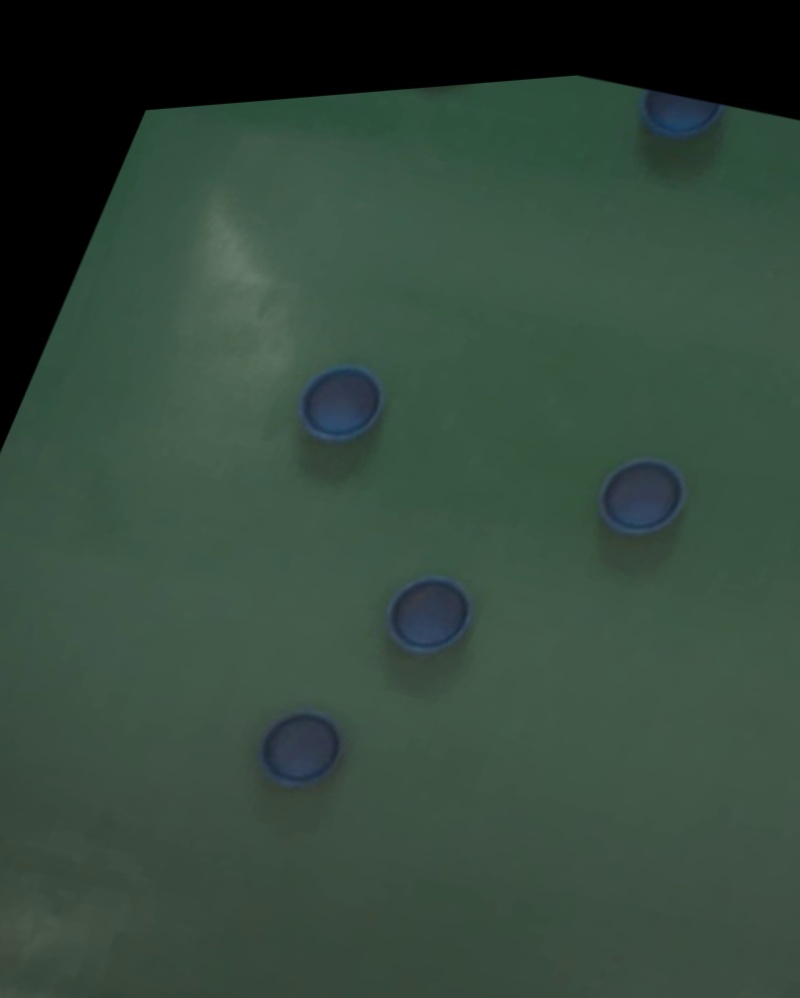Dark Blue: (586, 445, 700, 552), (373, 563, 486, 669), (248, 699, 353, 794), (287, 356, 391, 449)
